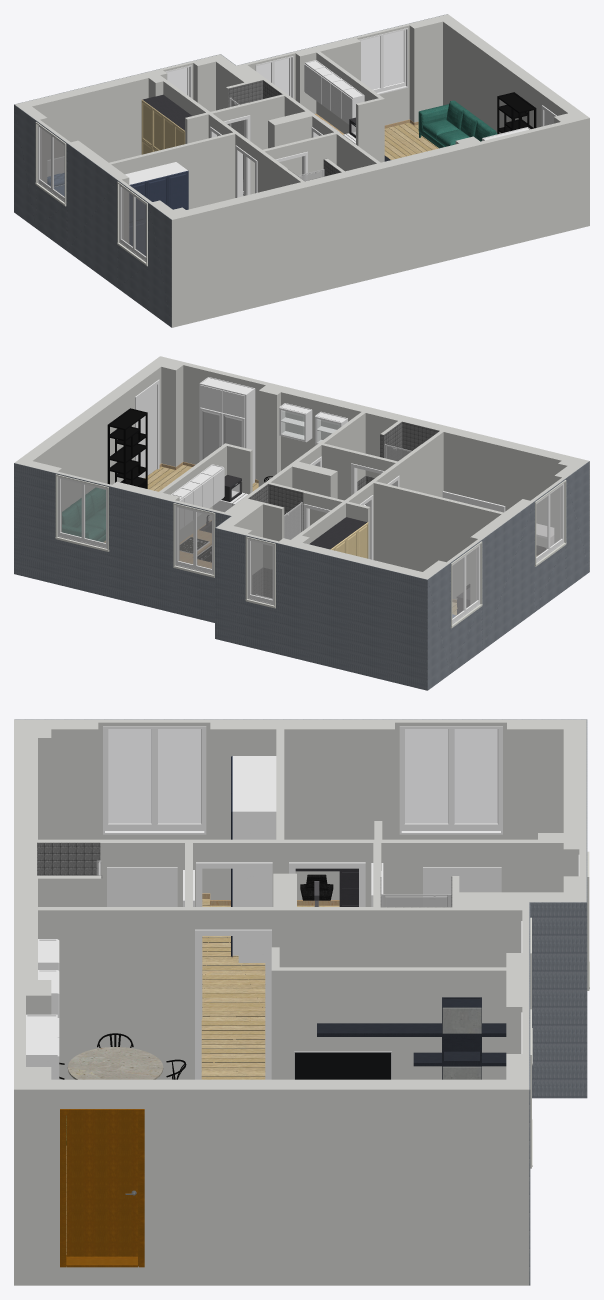
The model's file is apartment.glb.
The picture shows the model from 3 angles, top to bottom: view 1: azimuth 30°, elevation 25°; view 2: azimuth 150°, elevation 25°; view 3: azimuth 270°, elevation 25°; orthographic projection. The views are drawn at different scales.
Parts seen in each view (by area): view 1: structure, ceiling, gardirop-2, c46, kanepe, gardirop-1, mutfak-tezgahi, c0, c1, kitaplik, c35, c14 (+2 smaller); view 2: structure, ceiling, vestiyer, c46, c35, kitaplik, mutfak-tezgahi, c0, c1, c20, duvar-dolaplari, giris-kapisi (+4 smaller); view 3: structure, ceiling, giris-kapisi, c0, c1, duvar-raflari, gardirop-2, yemek-masasi, televizyon, lavabo-2, c31, lavabo-1 (+6 smaller).
Boxes of the visible parts, box(x1,y1,x2,y2) form: structure: box(14, 21, 589, 327); ceiling: box(14, 14, 589, 219); gardirop-2: box(125, 162, 188, 255); c46: box(359, 28, 407, 94); kanepe: box(418, 100, 497, 148); gardirop-1: box(141, 94, 191, 154); mutfak-tezgahi: box(304, 60, 364, 132); c0: box(35, 122, 66, 206); c1: box(117, 181, 147, 266); kitaplik: box(497, 92, 536, 134); c35: box(255, 56, 293, 98); c14: box(235, 145, 257, 197); structure: box(14, 365, 589, 690); ceiling: box(14, 356, 589, 579); vestiyer: box(199, 377, 255, 483); c46: box(55, 474, 109, 551); c35: box(173, 503, 215, 577); kitaplik: box(107, 408, 147, 488); mutfak-tezgahi: box(171, 464, 224, 562); c0: box(450, 541, 482, 628); c1: box(534, 480, 566, 566); c20: box(245, 536, 275, 608); duvar-dolaplari: box(279, 403, 347, 444); giris-kapisi: box(135, 379, 159, 478); structure: box(14, 723, 587, 1285); ceiling: box(14, 719, 587, 1089); giris-kapisi: box(60, 1109, 144, 1267); c0: box(399, 726, 502, 834); c1: box(103, 726, 206, 834); duvar-raflari: box(317, 997, 506, 1079); gardirop-2: box(231, 756, 276, 962); yemek-masasi: box(59, 1033, 186, 1144); televizyon: box(294, 1051, 391, 1079); lavabo-2: box(107, 867, 177, 906); c31: box(195, 929, 271, 1079); lavabo-1: box(423, 867, 501, 896).
Bounding box in the file's own units: 11.08 × 2.72 × 7.24.
Materials: 57 (27 with a texture image).
